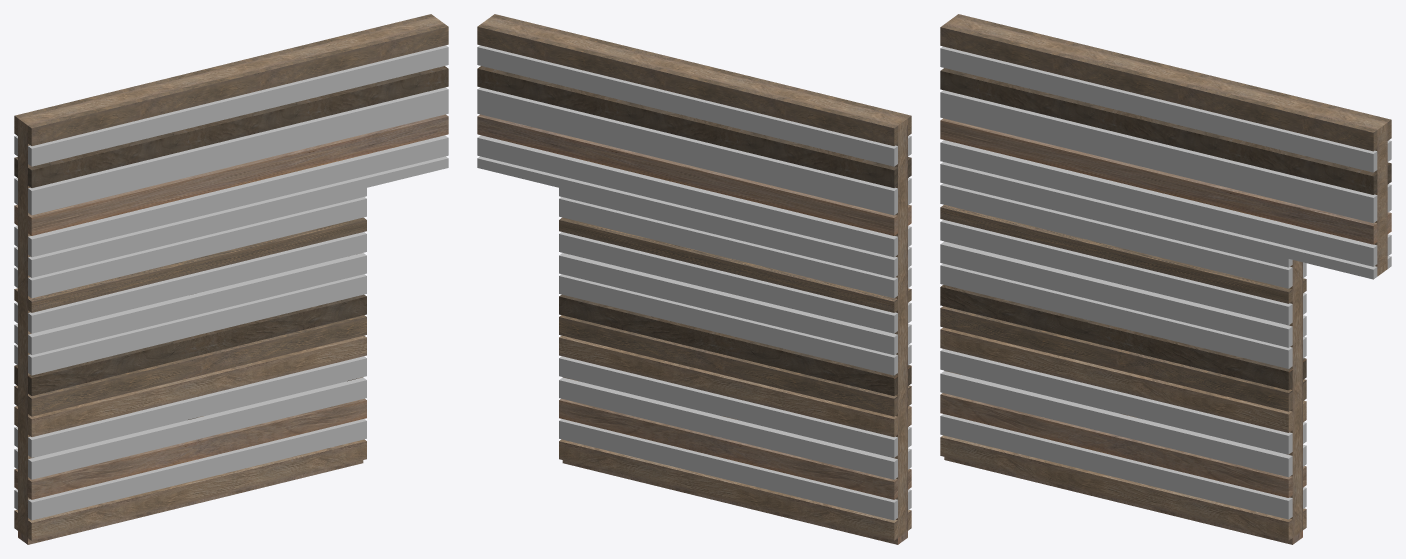
The model's file is WallPeiceDoorwayI.fbx.
3 views of the same model, side by side, from view 1: azimuth 30°, elevation 25°; view 2: azimuth 150°, elevation 25°; view 3: azimuth 330°, elevation 25° (orthographic). The views are drawn at different scales.
Visible parts, largest first — view 1: WallPeiceDoorwayI; view 2: WallPeiceDoorwayI; view 3: WallPeiceDoorwayI.
Part boxes in pixels (bbox=[...]): WallPeiceDoorwayI: bbox=[14, 14, 448, 544]; WallPeiceDoorwayI: bbox=[477, 14, 911, 544]; WallPeiceDoorwayI: bbox=[940, 14, 1391, 544].
Size of the model in its own units: 389 by 374 by 28.
